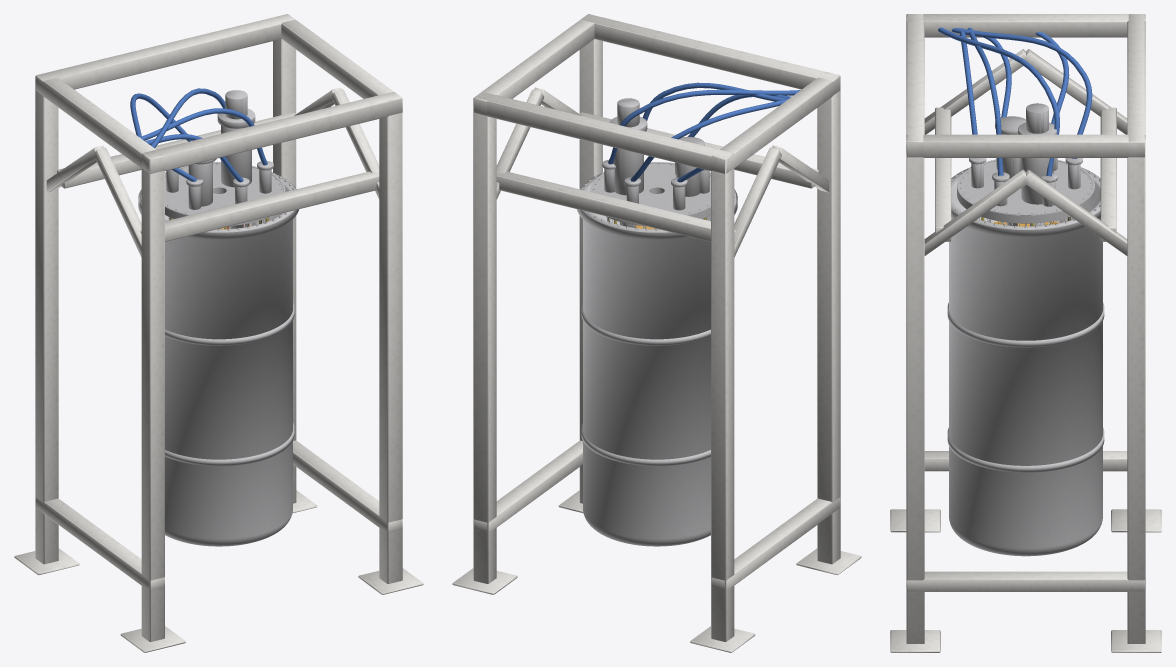
The model's file is cryostat.glb.
3 renders of one model, left to right at view 1: azimuth 30°, elevation 25°; view 2: azimuth 150°, elevation 25°; view 3: azimuth 270°, elevation 25°, orthographic. The views are drawn at different scales.
Visible parts, largest first — view 1: Vacuum Can, Frame Leg FL, Frame Leg FR, Frame Leg BL, Frame Top F, Frame Top B, Frame Mount F, Frame Leg BR, Top Hardware, Frame Top L, Frame Rail L, Frame Top R (+7 smaller); view 2: Vacuum Can, Frame Leg BL, Frame Leg BR, Frame Leg FL, Frame Top B, Frame Top F, Frame Mount B, Frame Leg FR, Top Hardware, Frame Top L, Signal Looms, Frame Top R (+7 smaller); view 3: Vacuum Can, Frame Leg BR, Frame Leg FR, Frame Top R, Frame Rail R, Signal Looms, Frame Top L, Top Hardware, Plate 300K, Frame Top F, Frame Top B, Frame Brace RB (+8 smaller).
Boxes of the visible parts, x1,y1,x2,y2 form: Vacuum Can: (138,172,299,546); Frame Leg FL: (120,153,185,652); Frame Leg FR: (358,92,423,594); Frame Leg BL: (14,72,79,575); Frame Top F: (142,92,402,173); Frame Top B: (37,14,294,89); Frame Mount F: (140,171,379,241); Frame Leg BR: (273,14,317,513); Top Hardware: (166,90,273,209); Frame Top L: (35,77,156,169); Frame Rail L: (35,497,164,590); Frame Top R: (281,19,402,101); Vacuum Can: (577,172,737,546); Frame Leg BL: (690,153,755,652); Frame Leg BR: (452,92,517,594); Frame Leg FL: (796,72,861,575); Frame Top B: (474,92,732,173); Frame Top F: (581,14,840,89); Frame Mount B: (496,171,735,241); Frame Leg FR: (558,14,602,513); Top Hardware: (602,98,709,210); Frame Top L: (711,77,840,173); Signal Looms: (608,82,800,182); Frame Top R: (473,19,594,115); Vacuum Can: (947,167,1104,556); Frame Leg BR: (1111,135,1161,652); Frame Leg FR: (890,135,940,652); Frame Top R: (906,134,1145,157); Frame Rail R: (906,571,1144,591); Signal Looms: (938,27,1092,176); Frame Top L: (923,14,1128,37); Top Hardware: (969,103,1082,206); Plate 300K: (957,159,1094,223); Frame Top F: (906,14,924,157); Frame Top B: (1127,14,1145,157); Frame Brace RB: (1023,169,1127,255).
Size of the model in its own units: 1.46 by 2.43 by 1.18.
Materials: 12 (9 with a texture image).
